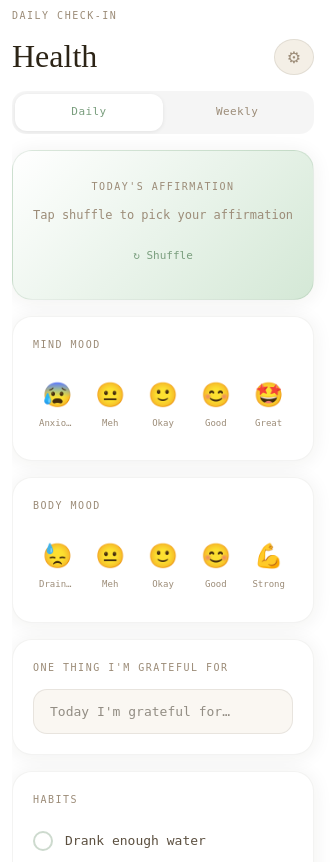
Test: HealthScreen – Settings › opens settings panel when gear icon clicked
The image size is (332, 862).
Step 1. Click the button "⚙" → (294, 57), box [274,39,314,75]
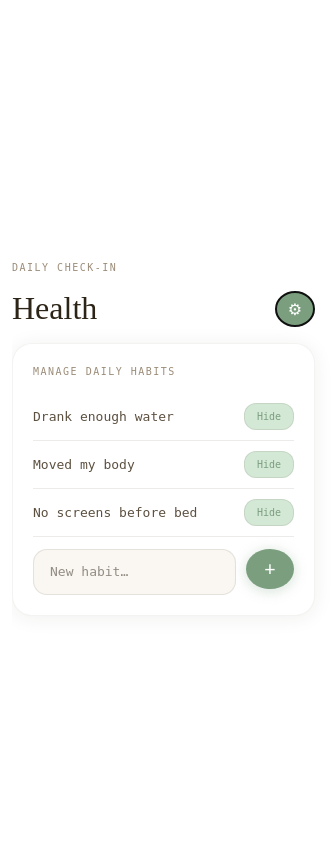
Now the text "Manage daily habits" is shown, box [33,366,176,377]
